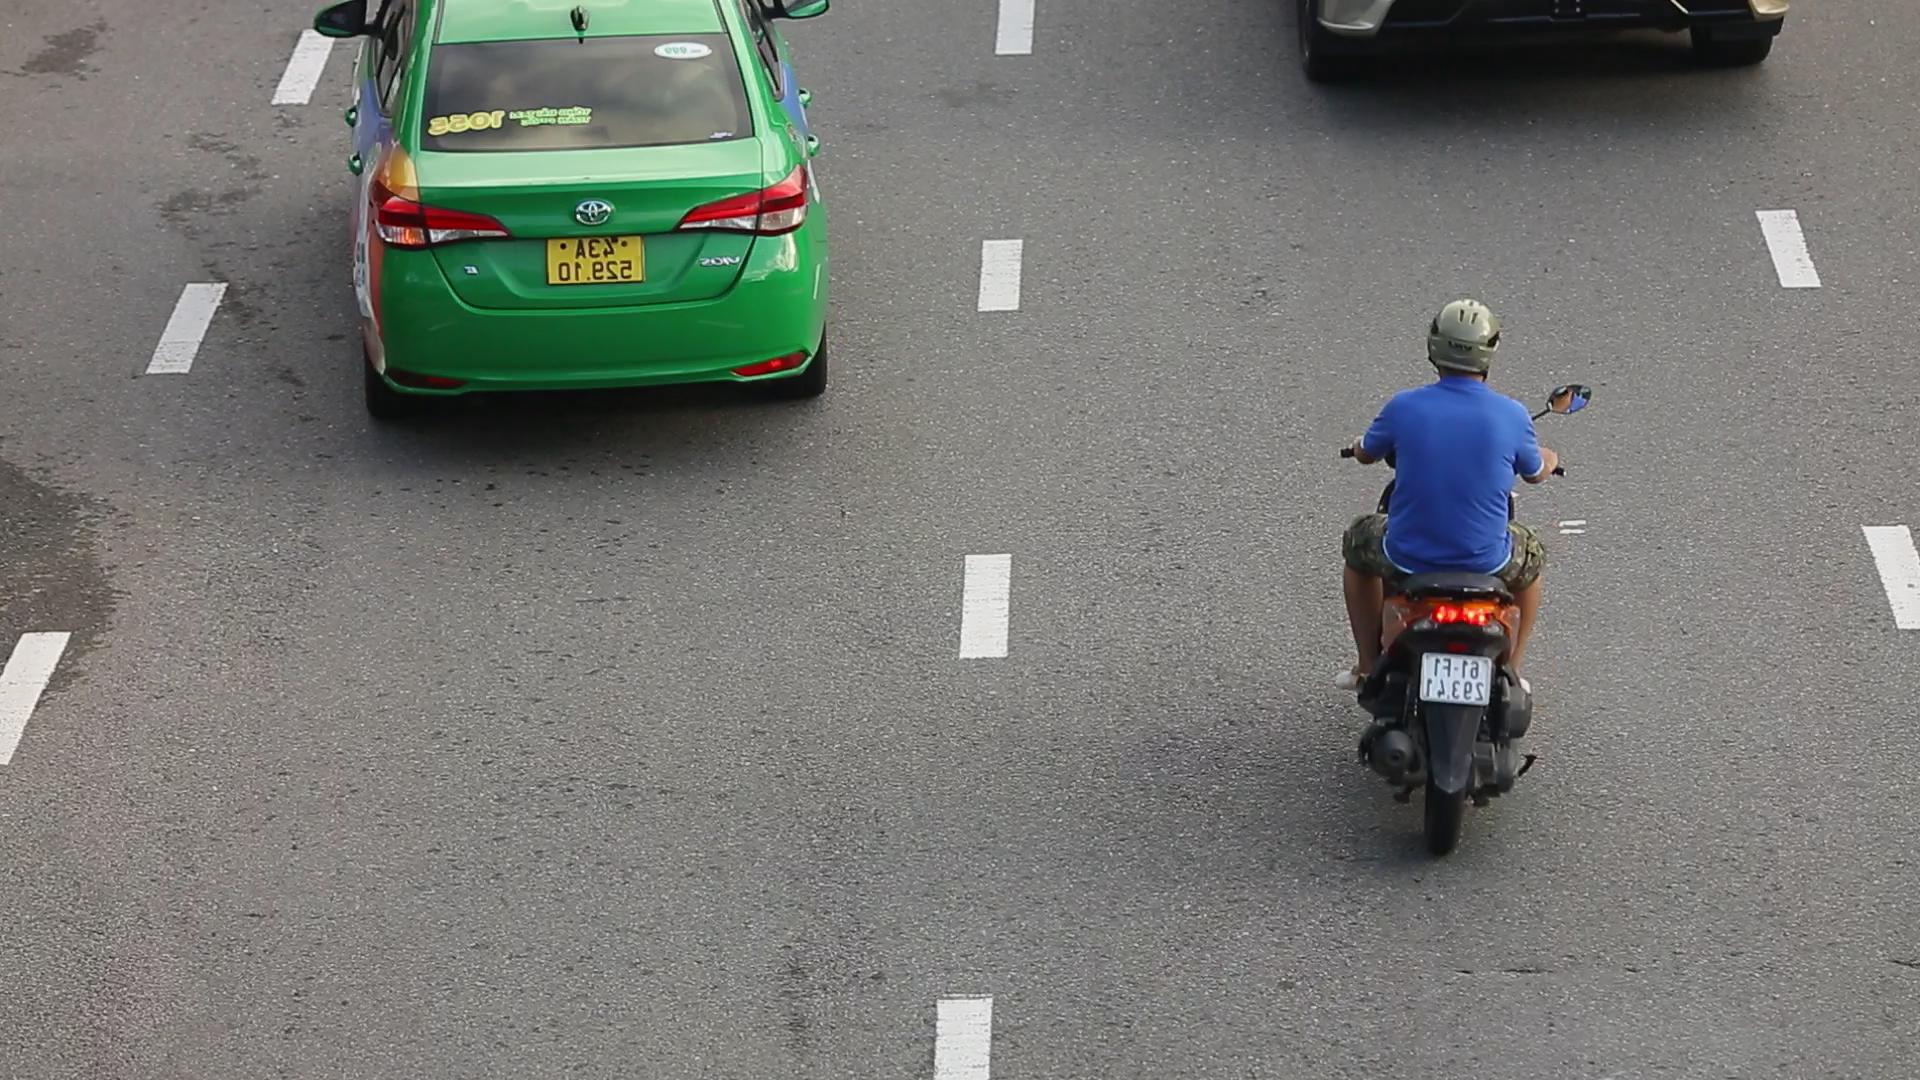motobike: (1337, 298, 1596, 865)
